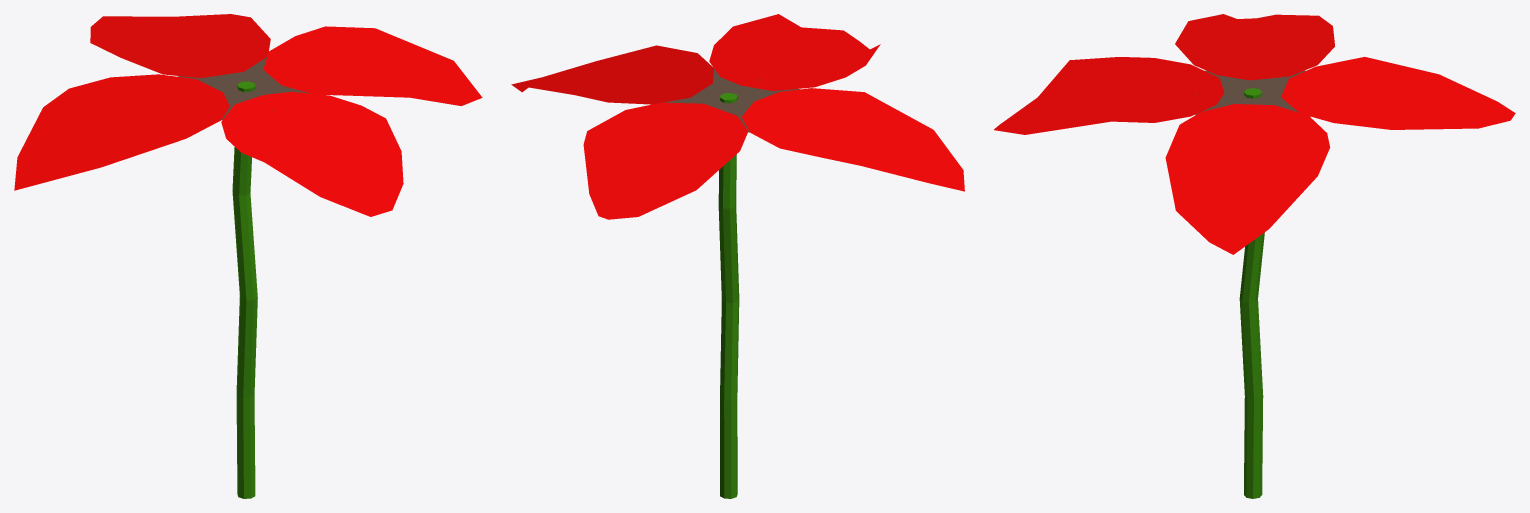
File: red_flower.glb
3 views of the same model, side by side, from view 1: azimuth 30°, elevation 25°; view 2: azimuth 150°, elevation 25°; view 3: azimuth 270°, elevation 25° (orthographic). The views are drawn at different scales.
Visible parts, largest first — view 1: BézierCircle.003; view 2: BézierCircle.003; view 3: BézierCircle.003.
Boxes of the visible parts, box(x1,y1,x2,y2) form: BézierCircle.003: box(14, 14, 482, 498); BézierCircle.003: box(511, 14, 964, 498); BézierCircle.003: box(994, 14, 1515, 498).
Size of the model in its own units: 0.5054 by 0.4335 by 0.5056.
1 material, 1 textured.
